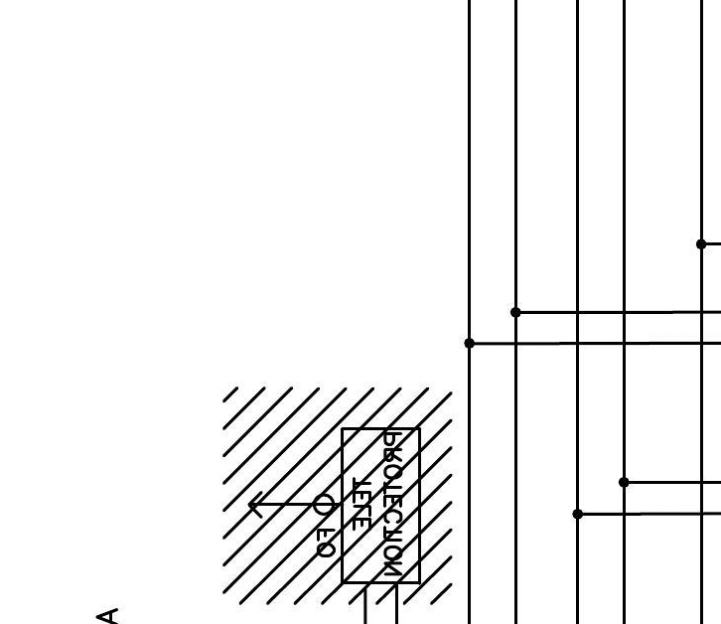tele_protection: (339, 424, 425, 587)
